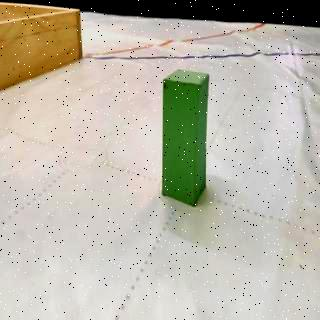greenbox: (161, 68, 210, 206)
